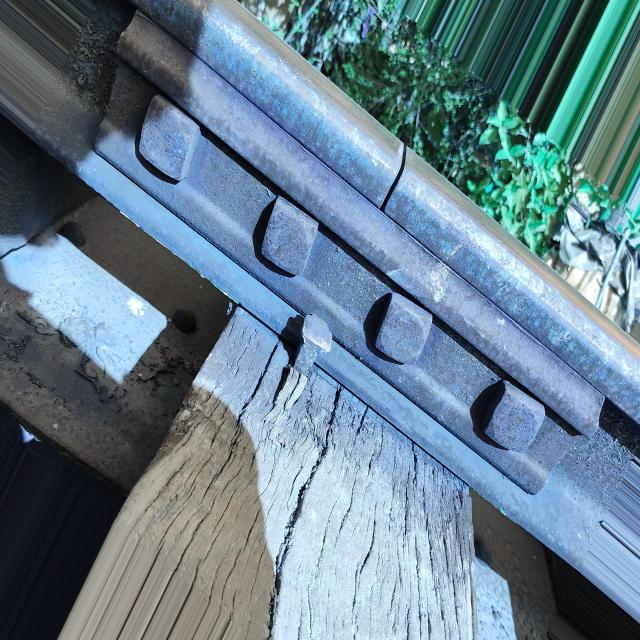Good Joint: (86, 7, 612, 499)
